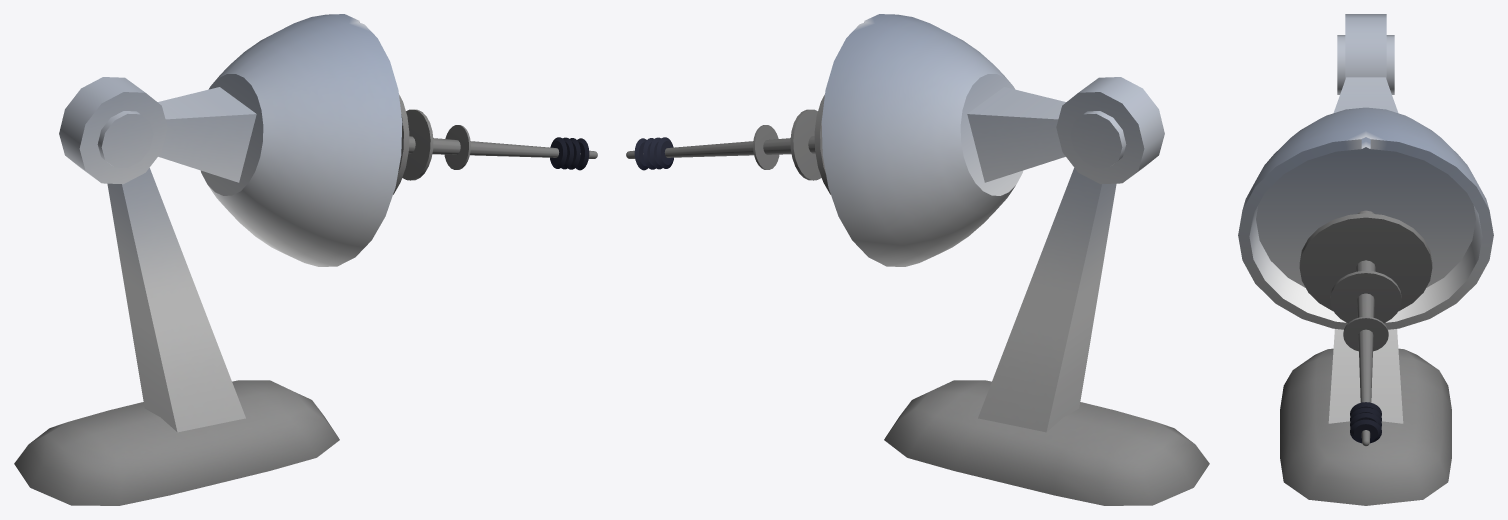
File: envprop_01.fbx
The picture shows the model from 3 angles, left to right: view 1: azimuth 30°, elevation 25°; view 2: azimuth 150°, elevation 25°; view 3: azimuth 270°, elevation 25°; orthographic projection.
Visible parts, largest first — view 1: Cylinder.019, Plane, Cube.007, Cube.019, Cylinder.022, Cylinder.030, Cylinder.023, Cylinder.021, Cylinder.024; view 2: Cylinder.019, Plane, Cube.007, Cube.019, Cylinder.022, Cylinder.030, Cylinder.023, Cylinder.021, Cylinder.024; view 3: Plane, Cylinder.029, Cylinder.019, Cylinder.020, Cube.007, Cylinder.022, Cylinder.021, Cylinder.023, Cube.019, Cylinder.024, Cylinder.030, Cylinder.028.
Part boxes in pixels (x1=…): Cylinder.019: x1=201, y1=14, x2=402, y2=266; Plane: x1=14, y1=380, x2=339, y2=505; Cube.007: x1=107, y1=168, x2=245, y2=432; Cube.019: x1=157, y1=87, x2=256, y2=182; Cylinder.022: x1=59, y1=77, x2=167, y2=184; Cylinder.030: x1=97, y1=111, x2=153, y2=167; Cylinder.023: x1=408, y1=136, x2=597, y2=158; Cylinder.021: x1=402, y1=109, x2=433, y2=180; Cylinder.024: x1=444, y1=125, x2=470, y2=169; Cylinder.019: x1=821, y1=14, x2=1022, y2=266; Plane: x1=884, y1=380, x2=1209, y2=505; Cube.007: x1=978, y1=168, x2=1116, y2=432; Cube.019: x1=967, y1=87, x2=1066, y2=182; Cylinder.022: x1=1056, y1=77, x2=1164, y2=184; Cylinder.030: x1=1070, y1=111, x2=1126, y2=167; Cylinder.023: x1=626, y1=136, x2=815, y2=158; Cylinder.021: x1=790, y1=109, x2=821, y2=180; Cylinder.024: x1=753, y1=125, x2=779, y2=169; Plane: x1=1280, y1=348, x2=1451, y2=505; Cylinder.029: x1=1256, y1=147, x2=1475, y2=287; Cylinder.019: x1=1238, y1=107, x2=1493, y2=329; Cylinder.020: x1=1299, y1=213, x2=1432, y2=311; Cube.007: x1=1328, y1=329, x2=1403, y2=423; Cylinder.022: x1=1345, y1=14, x2=1386, y2=79; Cylinder.021: x1=1330, y1=270, x2=1401, y2=322; Cylinder.023: x1=1356, y1=210, x2=1375, y2=446; Cube.019: x1=1333, y1=77, x2=1398, y2=112; Cylinder.024: x1=1343, y1=316, x2=1388, y2=351; Cylinder.030: x1=1337, y1=35, x2=1394, y2=94; Cylinder.028: x1=1350, y1=419, x2=1381, y2=443.
Size of the model in its own units: 1.95 by 1.27 by 0.7578.
